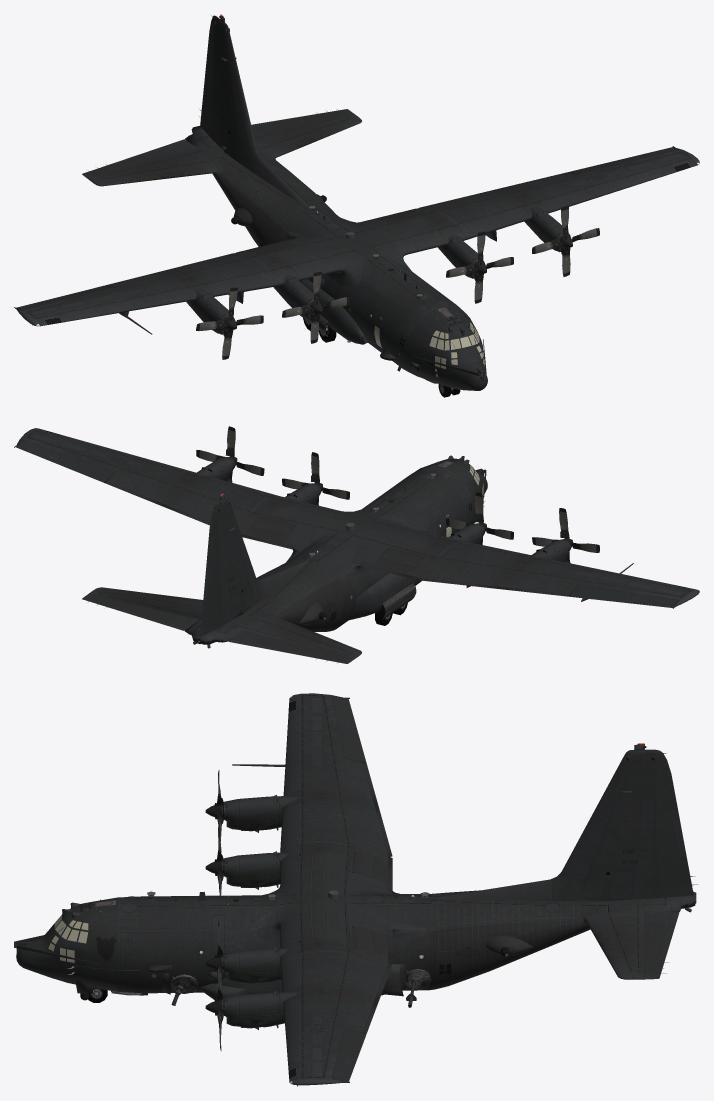
File: fight_plane.gltf
The picture shows the model from 3 angles, top to bottom: view 1: azimuth 30°, elevation 25°; view 2: azimuth 150°, elevation 25°; view 3: azimuth 270°, elevation 25°; orthographic projection. The views are drawn at different scales.
Visible parts, largest first — view 1: 战机01; view 2: 战机01; view 3: 战机01.
Part boxes in pixels (x1,y1,x2,y2): 战机01: (14,14,699,397); 战机01: (14,426,699,663); 战机01: (14,693,697,1086).
Size of the model in its own units: 20.02 by 6.11 by 14.87.
Materials: 1 (1 with a texture image).
